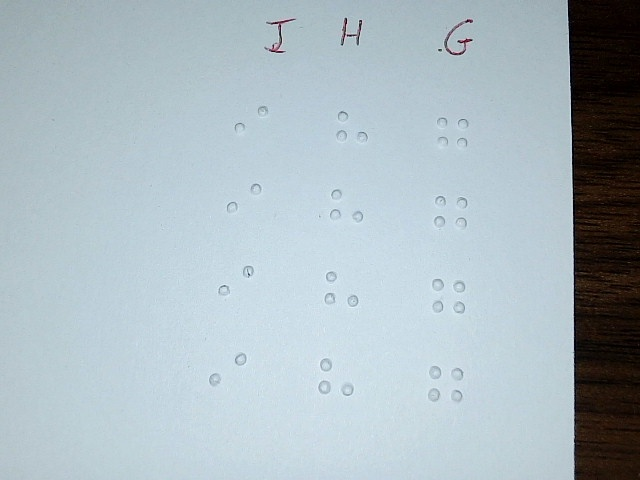G: (434, 108, 470, 164), (433, 186, 469, 242), (431, 268, 467, 324), (428, 357, 464, 413)
H: (317, 349, 355, 409), (334, 102, 370, 158), (329, 180, 365, 236), (323, 263, 359, 319)
I: (209, 342, 248, 403), (233, 95, 269, 151), (226, 173, 262, 229), (218, 255, 254, 311)
